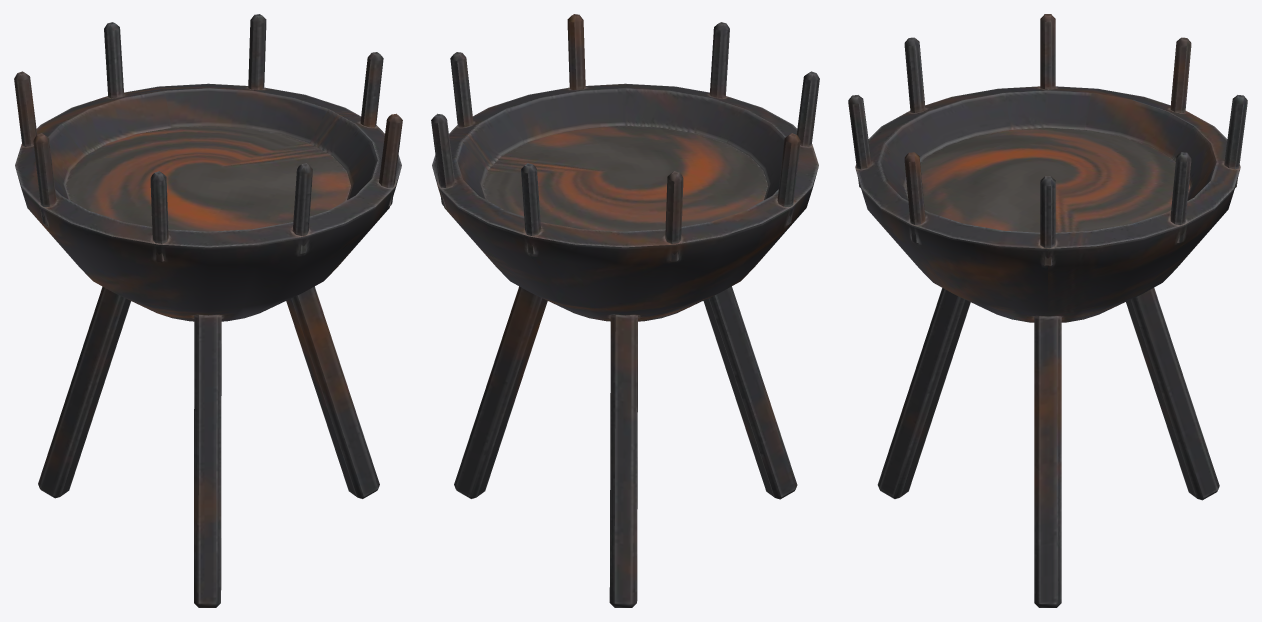
Rendered from brazier.glb.
3 renders of one model, left to right at view 1: azimuth 30°, elevation 25°; view 2: azimuth 150°, elevation 25°; view 3: azimuth 270°, elevation 25°, orthographic.
Visible parts, largest first — view 1: brazier; view 2: brazier; view 3: brazier.
Boxes of the visible parts, <box> form: brazier: <box>14,14,402,607</box>; brazier: <box>431,14,819,607</box>; brazier: <box>848,14,1247,607</box>.
Bounding box in the file's own units: 0.663 × 0.8002 × 0.663.
Materials: 1 (1 with a texture image).
